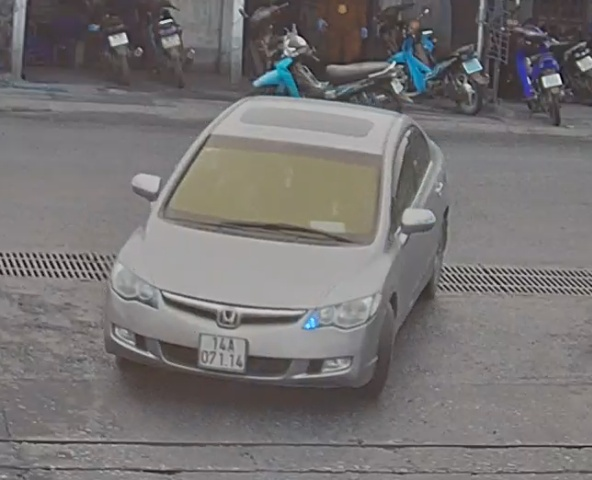vehicle plate: (195, 329, 248, 377)
